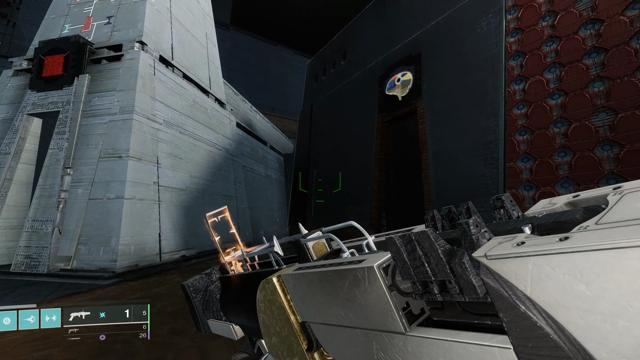drink: (381, 65, 417, 106)
stop: (35, 46, 71, 85)
